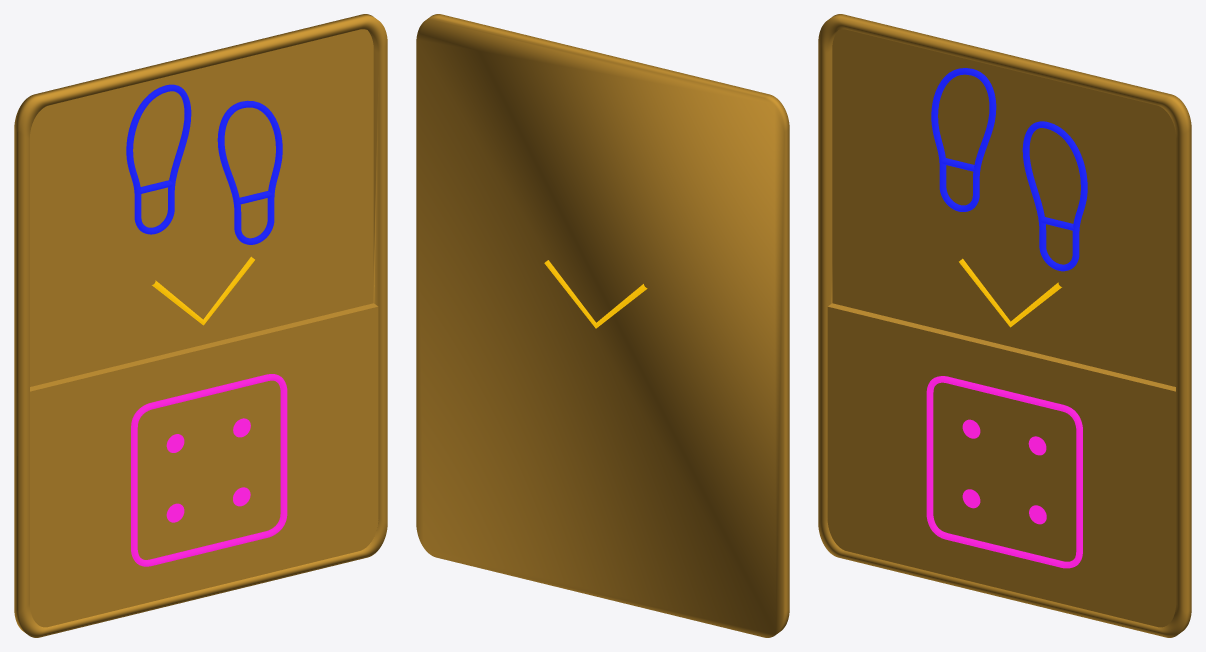
Rendered from CardMoveBottom.glb.
The picture shows the model from 3 angles, left to right: view 1: azimuth 30°, elevation 25°; view 2: azimuth 150°, elevation 25°; view 3: azimuth 330°, elevation 25°; orthographic projection.
Parts seen in each view (by area): view 1: Cube, Curve.008, Curve, Curve.001, Curve.004; view 2: Cube, Curve.004; view 3: Cube, Curve.008, Curve.001, Curve, Curve.004.
Boxes of the visible parts, x1,y1,x2,y2 form: Cube: (14,14,387,637); Curve.008: (131,374,287,566); Curve: (126,84,191,234); Curve.001: (217,100,282,244); Curve.004: (152,256,254,325); Cube: (416,14,789,637); Curve.004: (544,260,647,328); Cube: (818,14,1191,637); Curve.008: (926,376,1082,568); Curve.001: (1022,121,1087,271); Curve: (931,68,996,211); Curve.004: (959,258,1061,327).
Size of the model in its own units: 5 by 7 by 0.23.
